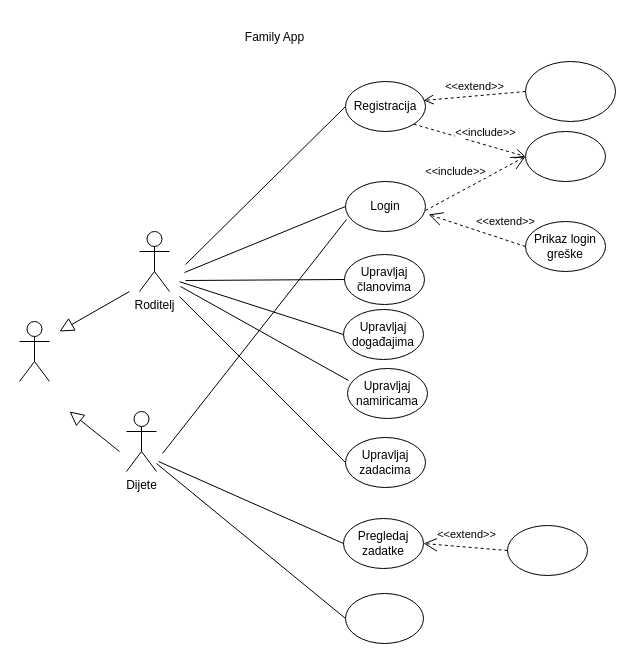
The diagram is 633 pixels wide and 661 high, and some of its shapes have lost their labels. The centre of each missing label's shape, as x and y in pixels:
"Izvršen zadatak" goes at (547,550).
"Obitelj" goes at (34,351).
"Pregledaj događaje" goes at (384,618).
"Prikaz register greške" goes at (570,91).
"Validacija podataka" goes at (565,156).
